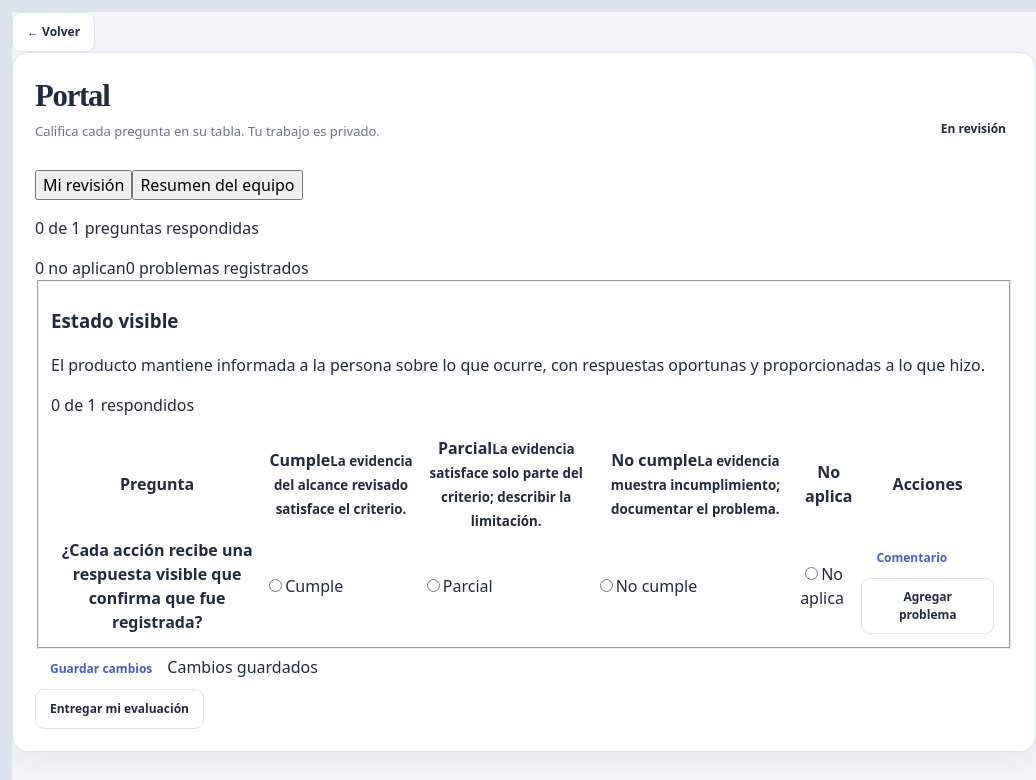
Test case: flujo individual › mensaje al entregar › avisa que entregaste y nombra a quien falta, con aviso emergente
This screenshot has width=1036, height=780.
Click the radio button labelled "Cumple". click: (276, 586)
box: [269,580,282,592]
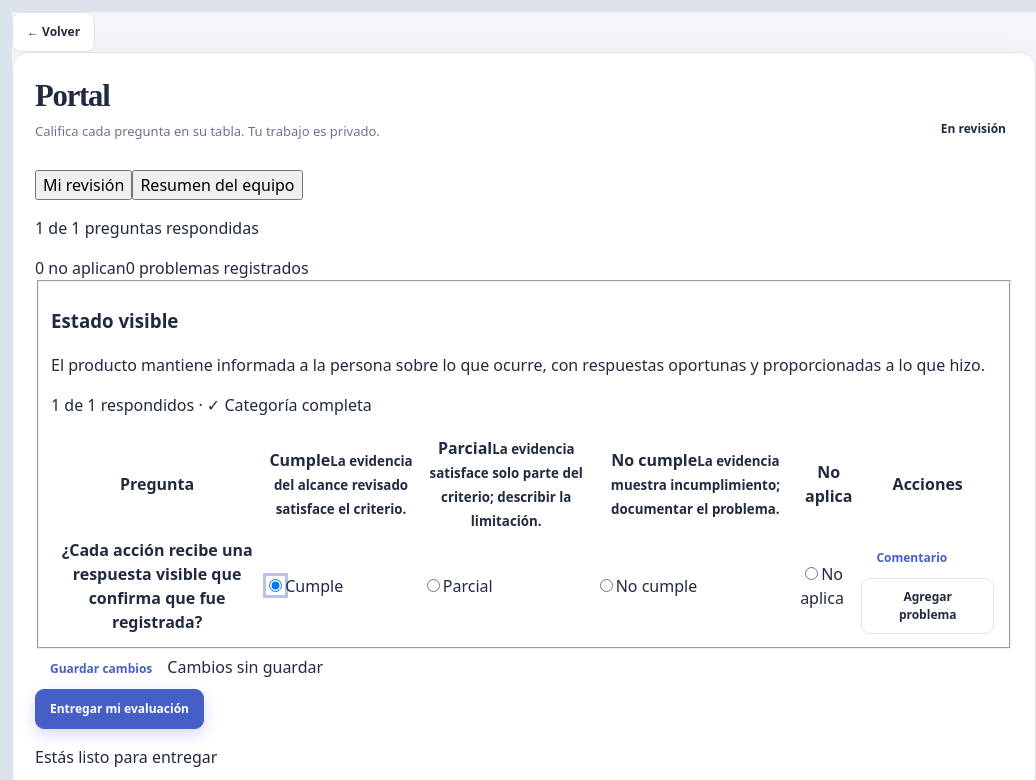
Click the button "Entregar mi evaluación". click: (120, 710)
box: [35,690,204,730]
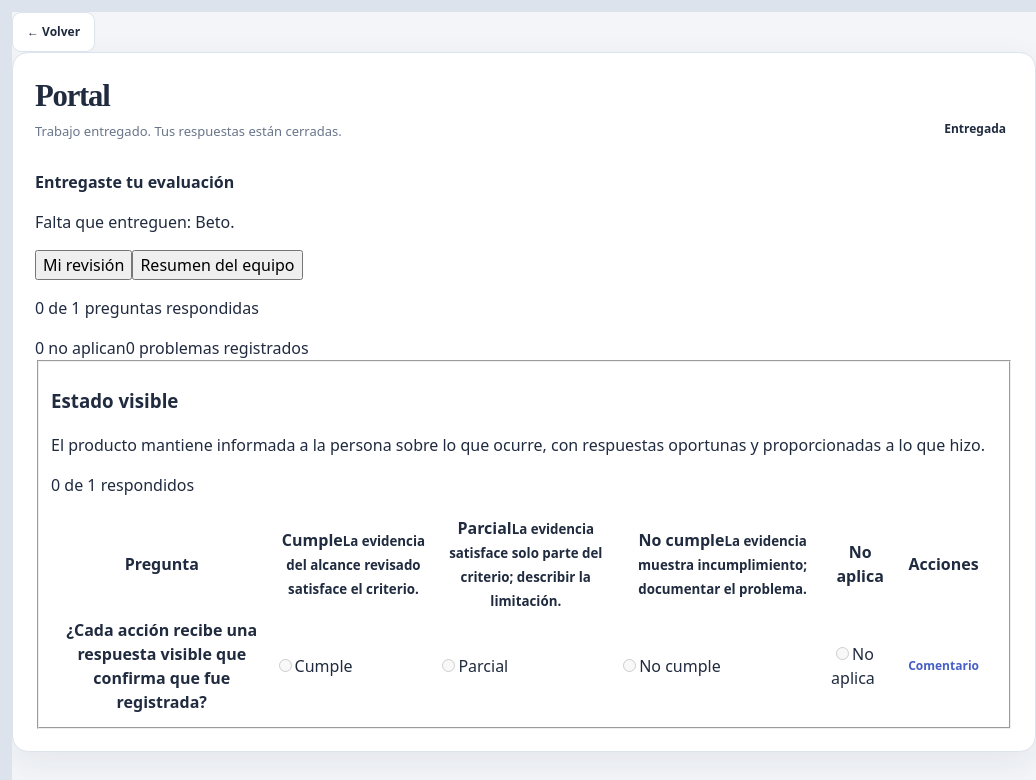
Check: the text "Entregaste tu evaluación" is shown, box [35,171,234,193]
Check: the text "Falta que entreguen: Beto." is shown, box [35,211,234,233]
